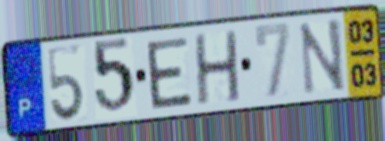5: (90, 35, 138, 121), (45, 41, 87, 125)
7: (251, 19, 297, 104)
E: (143, 34, 195, 112)
H: (192, 28, 243, 109)
N: (297, 16, 348, 98)
